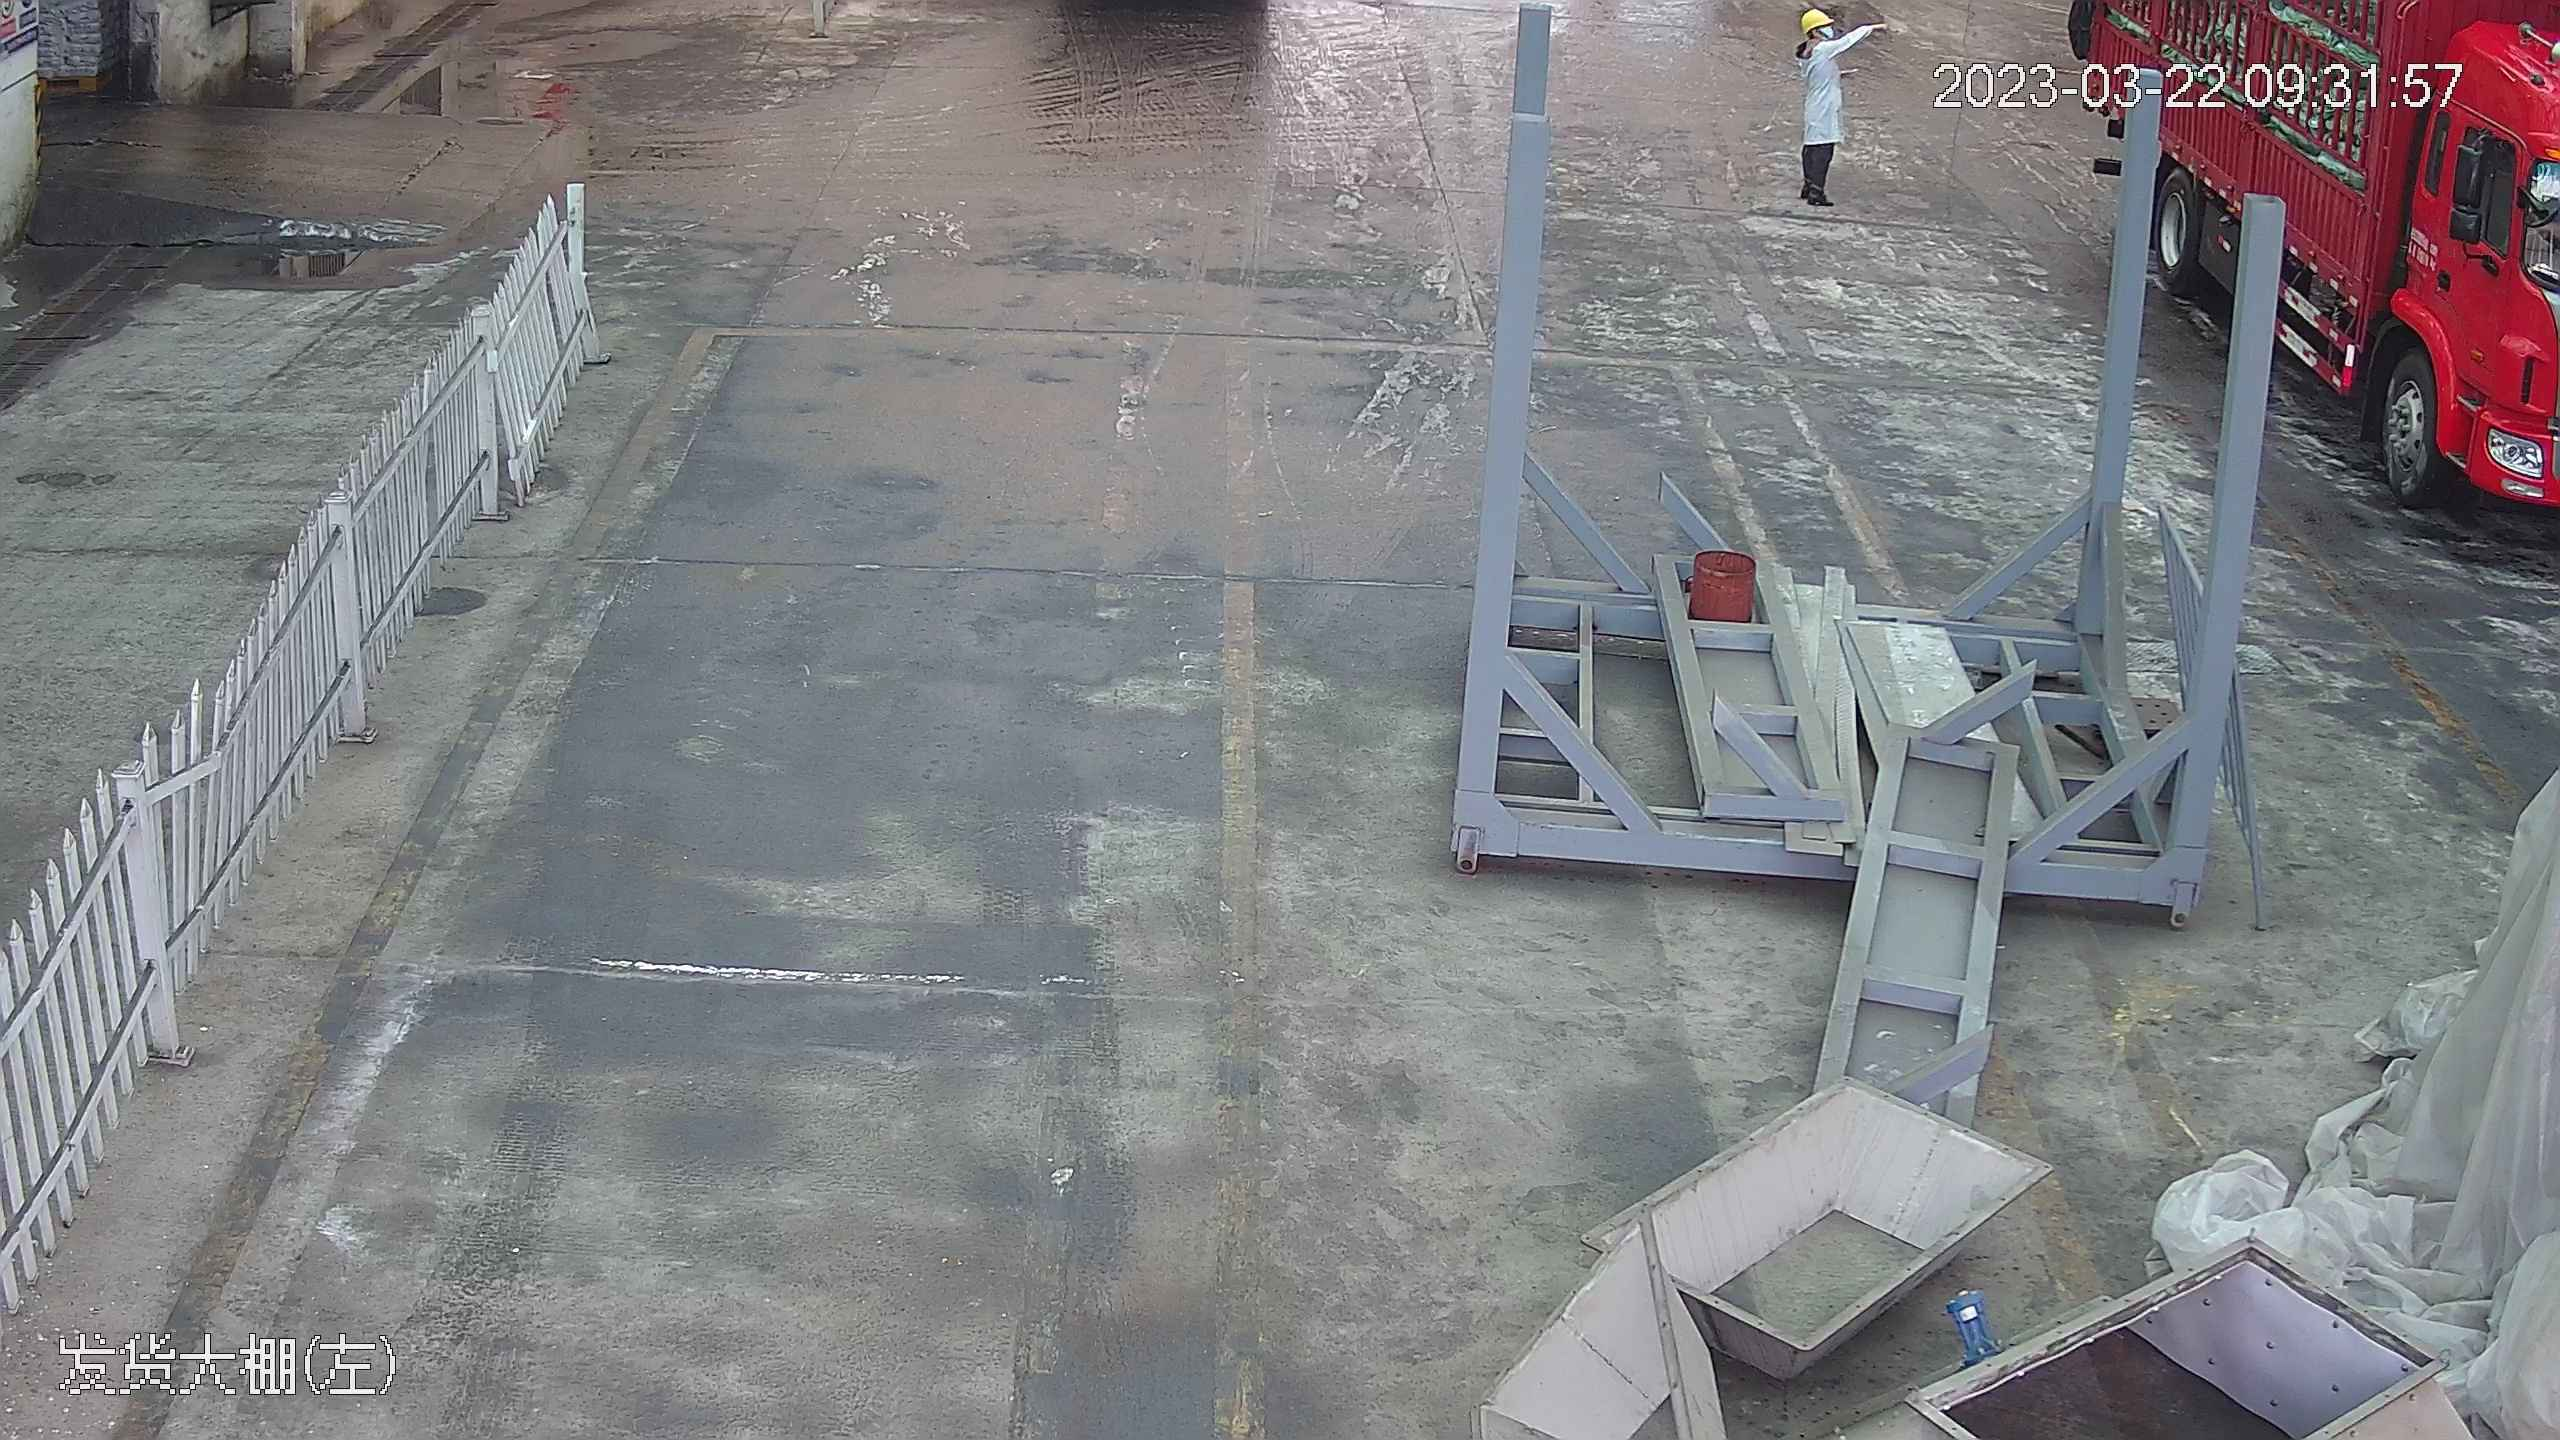head: (1793, 8, 1843, 69)
helmet: (1797, 9, 1830, 35)
people: (1782, 8, 1851, 210)
truck: (2078, 1, 2557, 564)
